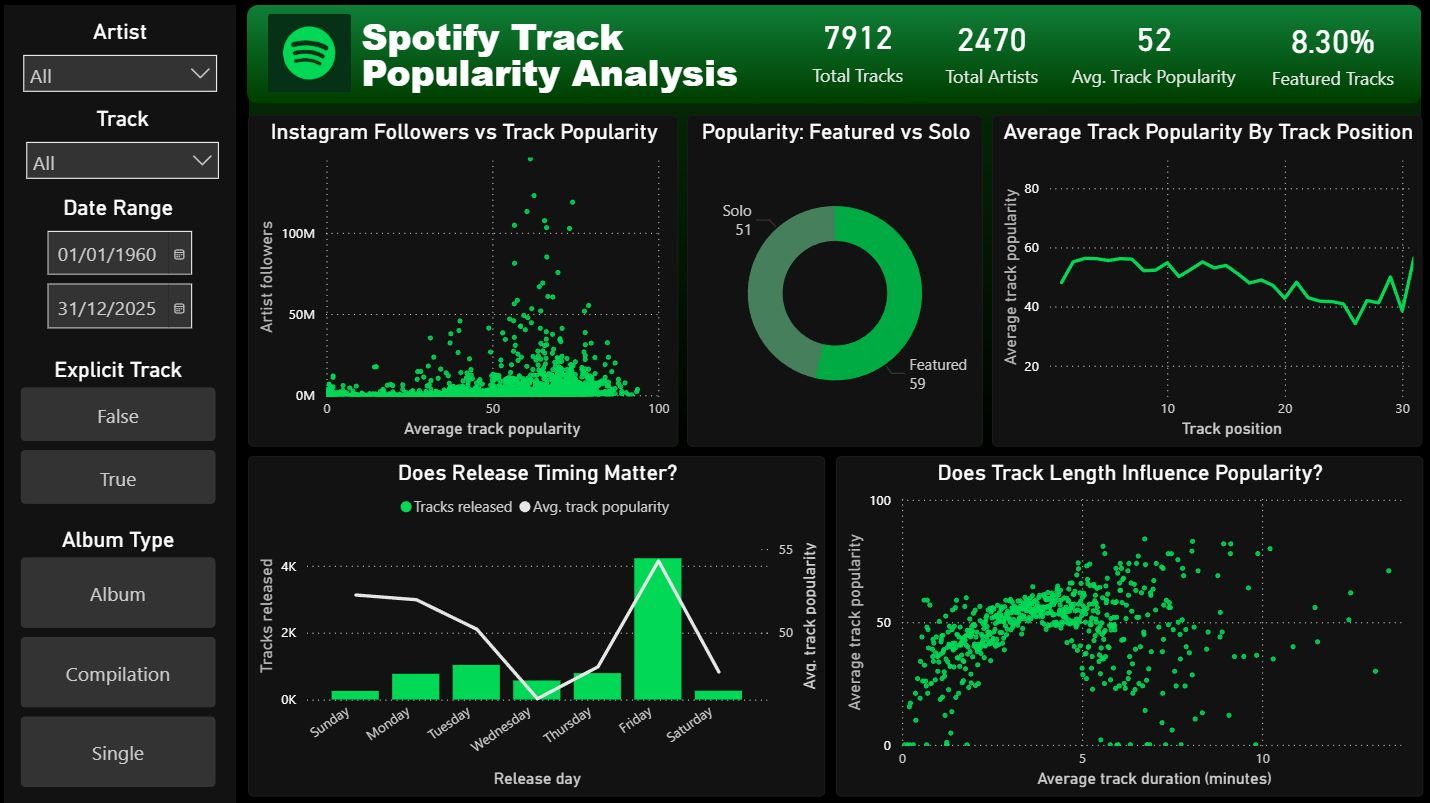

Layout of this report page (visuals, bound fields, positions):
{"tool":"powerbi","page":{"name":"Page 1","canvas":[1280,720],"ordinal":0},"visuals":[{"type":"image","box":[558.9,8.9,712.2,424.4],"z":0},{"type":"image","box":[224.5,5.5,711,429],"z":1000},{"type":"image","box":[223.4,6.6,157.6,88.3],"z":2000},{"type":"shape","box":[6.6,6.6,207.4,713.2],"z":3000},{"type":"shape","box":[241.7,14,74.3,70],"z":4000},{"type":"image","box":[243.8,15.7,70,66.1],"z":5000},{"type":"scatterChart","title":"Instagram Followers vs Track Popularity","fields":{"Y":["dim_artist.artist_followers"],"X":["fact_track.Average of track_popularity"]},"box":[224,104,384,296],"z":6000},{"type":"donutChart","title":"Popularity: Featured vs Solo","fields":{"Y":["fact_track.Average of track_popularity"],"Category":["fact_track.collaboration_type"]},"box":[616,104,264,296],"z":7000},{"type":"lineChart","title":"Average Track Popularity By Track Position","fields":{"Y":["fact_track.Average of track_popularity"],"Category":["fact_track.track_number"]},"box":[888,104,384,296],"z":8000},{"type":"scatterChart","title":"Does Track Length Influence Popularity?","fields":{"Category":["fact_track.track_duration_min"],"Y":["fact_track.Average of track_popularity"],"X":["fact_track.Average track duration"]},"box":[748.2,408.2,523.6,303.6],"z":9000},{"type":"image","box":[364.5,6.6,170.3,88.3],"z":10000},{"type":"image","box":[517.6,6.6,170.3,88.3],"z":11000},{"type":"image","box":[667.6,6.6,170.3,88.3],"z":12000},{"type":"image","box":[806.6,6.6,170.3,88.3],"z":13000},{"type":"image","box":[959.7,6.6,170.3,88.3],"z":14000},{"type":"image","box":[1113.3,6.7,157.8,88.3],"z":15000},{"type":"textbox","box":[320,6.4,416,56],"z":16000},{"type":"advancedSlicerVisual","fields":{"Values":["dim_album.album_type"]},"box":[16,472,184,240],"z":17000},{"type":"slicer","title":"Artist","fields":{"Values":["dim_artist.artist_name"]},"box":[13.6,19.1,192.7,75.5],"z":18000},{"type":"slicer","title":"Track","fields":{"Values":["fact_track.track_name"]},"box":[16,96,192,72],"z":19000},{"type":"card","fields":{"Values":["fact_track.Count of track_id"]},"box":[712,8,112,72],"z":20000},{"type":"card","fields":{"Values":["dim_artist.Count of artist_name"]},"box":[823.8,5,128.1,80],"z":21000},{"type":"card","fields":{"Values":["fact_track.Average of track_popularity"]},"box":[951.9,5.6,160,80],"z":22000},{"type":"card","fields":{"Values":["fact_track.Percentage of Featured Tracks"]},"box":[1128.1,6.9,128.1,80],"z":23000},{"type":"slicer","title":"Date Range      ","fields":{"Values":["Calendar.Date"]},"box":[32,176,152,152],"z":24000},{"type":"advancedSlicerVisual","fields":{"Values":["fact_track.is_explicit"]},"box":[16,320,184,136],"z":25000},{"type":"textbox","box":[320,38.4,416,64],"z":26000},{"type":"lineStackedColumnComboChart","title":"Does Release Timing Matter?","fields":{"Y2":["fact_track.Average of track_popularity"],"Category":["Calendar.Day Of Week"],"Y":["CountNonNull(fact_track.track_name)"]},"box":[224.1,408.2,515.5,303.6],"z":27000}]}

Visuals, with their boxes in screenshot pixels (x1, y1, x2, y2), scaled from the page's 1280x720 canvas onto the 1430x803 screenshot:
image: bbox(624, 10, 1420, 483)
image: bbox(251, 6, 1045, 485)
image: bbox(250, 7, 426, 106)
shape: bbox(7, 7, 239, 802)
shape: bbox(270, 16, 353, 94)
image: bbox(272, 18, 351, 91)
"Instagram Followers vs Track Popularity" scatterChart: bbox(250, 116, 679, 446)
"Popularity: Featured vs Solo" donutChart: bbox(688, 116, 983, 446)
"Average Track Popularity By Track Position" lineChart: bbox(992, 116, 1421, 446)
"Does Track Length Influence Popularity?" scatterChart: bbox(836, 455, 1421, 794)
image: bbox(407, 7, 597, 106)
image: bbox(578, 7, 769, 106)
image: bbox(746, 7, 936, 106)
image: bbox(901, 7, 1091, 106)
image: bbox(1072, 7, 1262, 106)
image: bbox(1244, 7, 1420, 106)
textbox: bbox(358, 7, 822, 70)
advancedSlicerVisual - dim_album.album_type: bbox(18, 526, 223, 794)
"Artist" slicer: bbox(15, 21, 230, 106)
"Track" slicer: bbox(18, 107, 232, 187)
card - fact_track.Count of track_id: bbox(795, 9, 921, 89)
card - dim_artist.Count of artist_name: bbox(920, 6, 1063, 95)
card - fact_track.Average of track_popularity: bbox(1063, 6, 1242, 95)
card - fact_track.Percentage of Featured Tracks: bbox(1260, 8, 1403, 97)
"Date Range      " slicer: bbox(36, 196, 206, 366)
advancedSlicerVisual - fact_track.is_explicit: bbox(18, 357, 223, 509)
textbox: bbox(358, 43, 822, 114)
"Does Release Timing Matter?" lineStackedColumnComboChart: bbox(250, 455, 826, 794)
